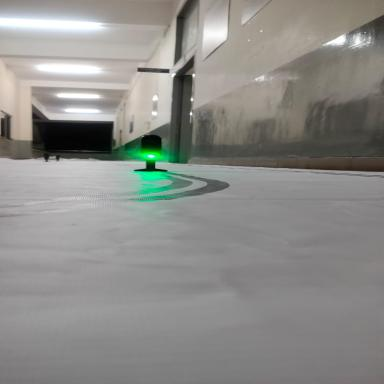green: (132, 135, 186, 183)
